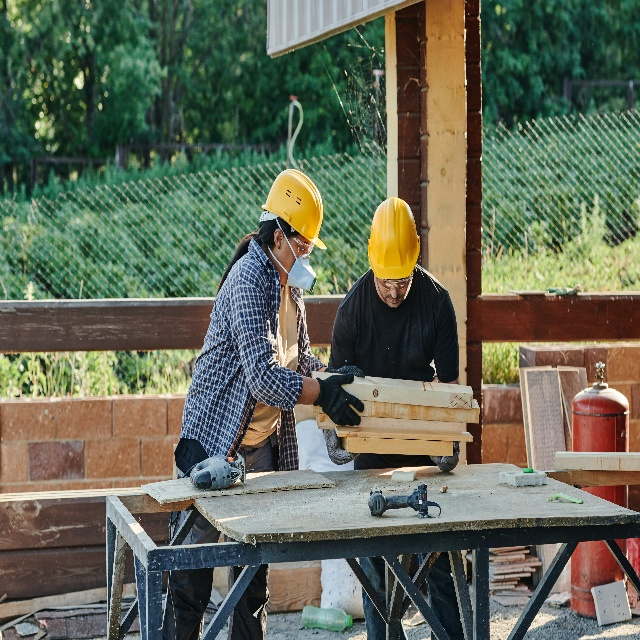Gafas: (377, 270, 413, 290), (289, 235, 314, 258)
Guantes: (313, 373, 364, 427), (323, 428, 360, 464), (429, 441, 460, 472), (324, 365, 365, 378)
Mascara: (269, 221, 316, 297)
